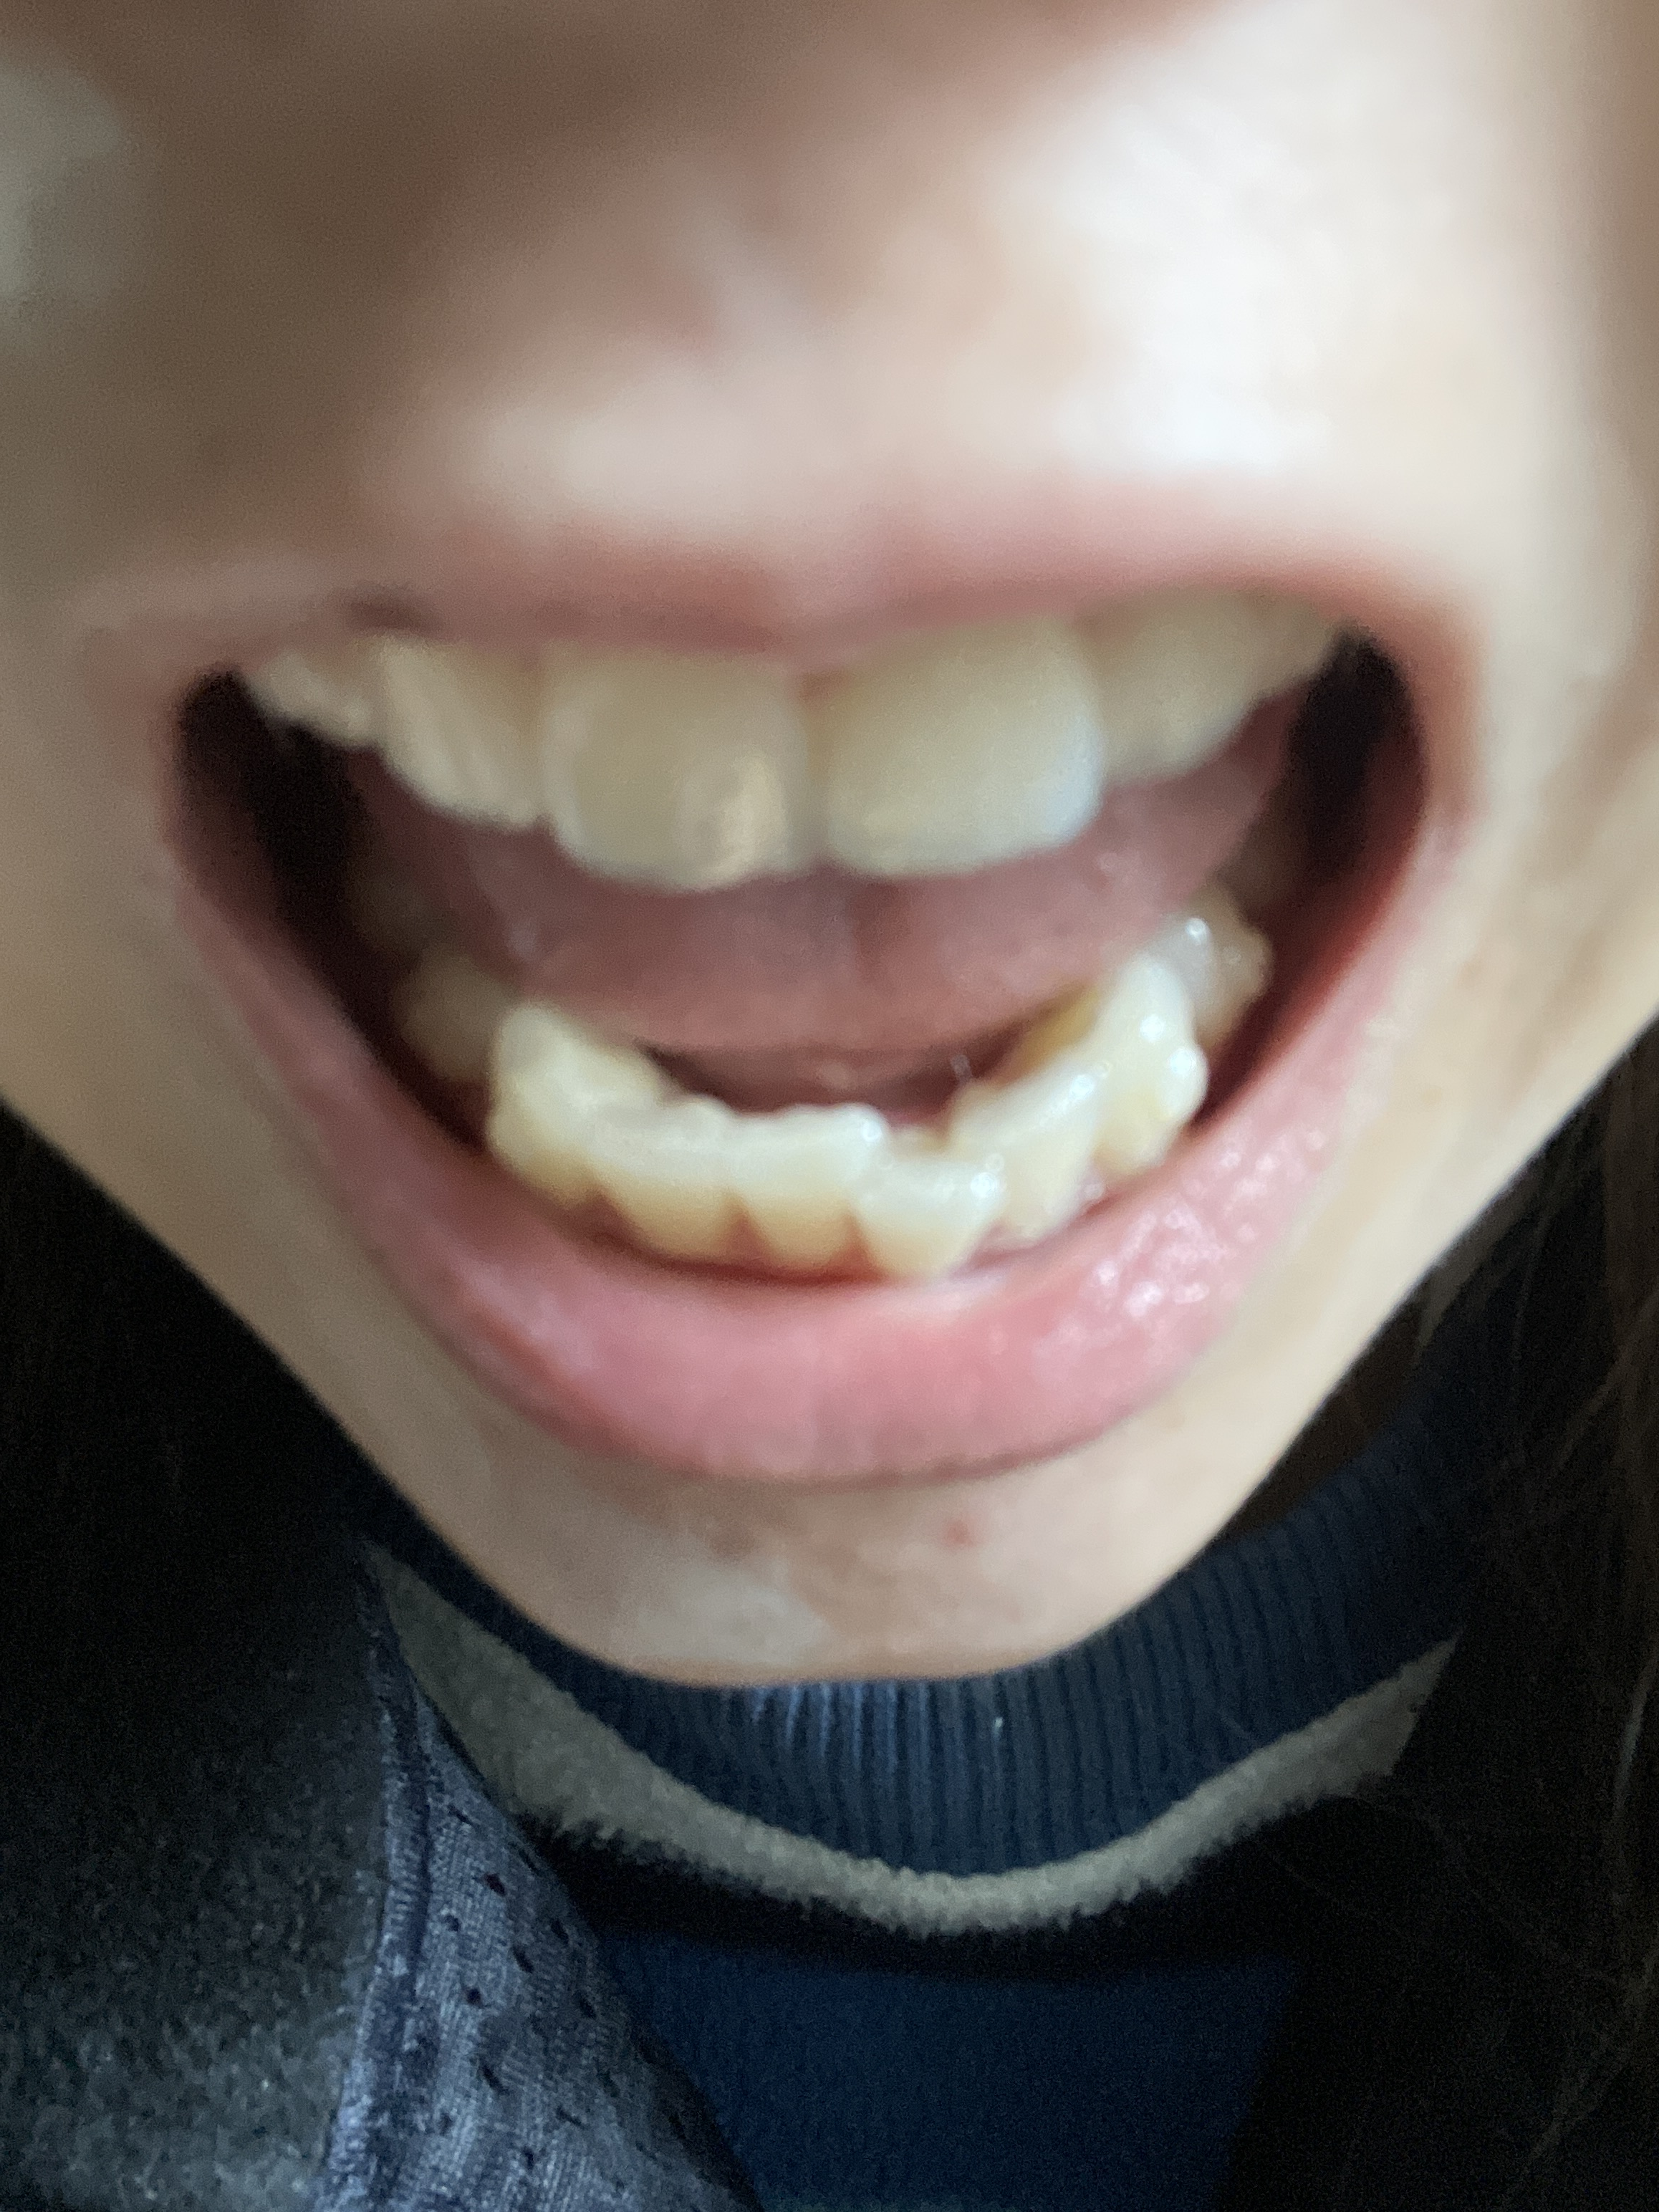teeth: (809, 604, 1100, 869), (538, 637, 817, 878), (371, 637, 525, 817), (1108, 594, 1248, 782), (483, 1022, 626, 1205), (744, 1111, 889, 1263), (1107, 965, 1199, 1163), (603, 1109, 730, 1251), (988, 1075, 1098, 1221), (868, 1184, 990, 1271)
